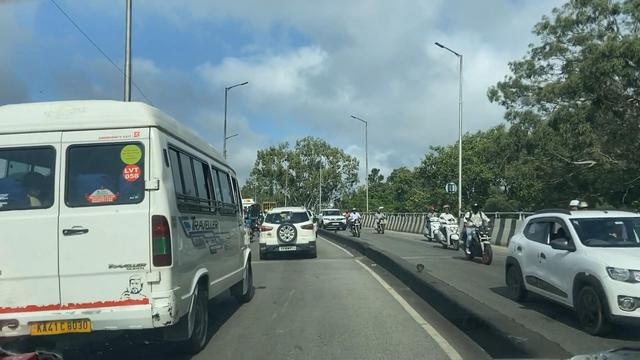HMV: (1, 97, 248, 349)
LMV: (259, 205, 316, 251)
SpeedBump: (245, 255, 357, 264)
